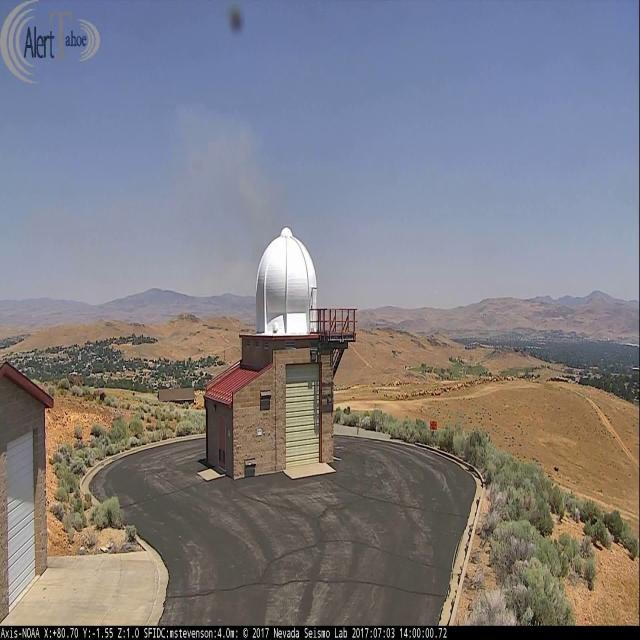smoke: (160, 97, 277, 296)
